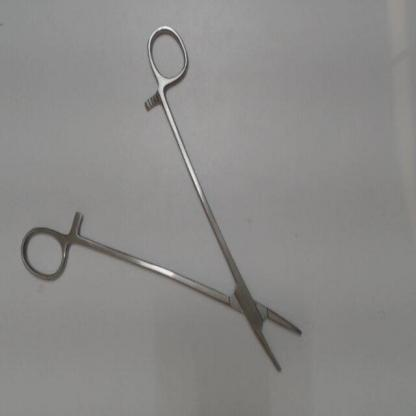8 Mayo Needle Holder: (14, 16, 314, 390)
